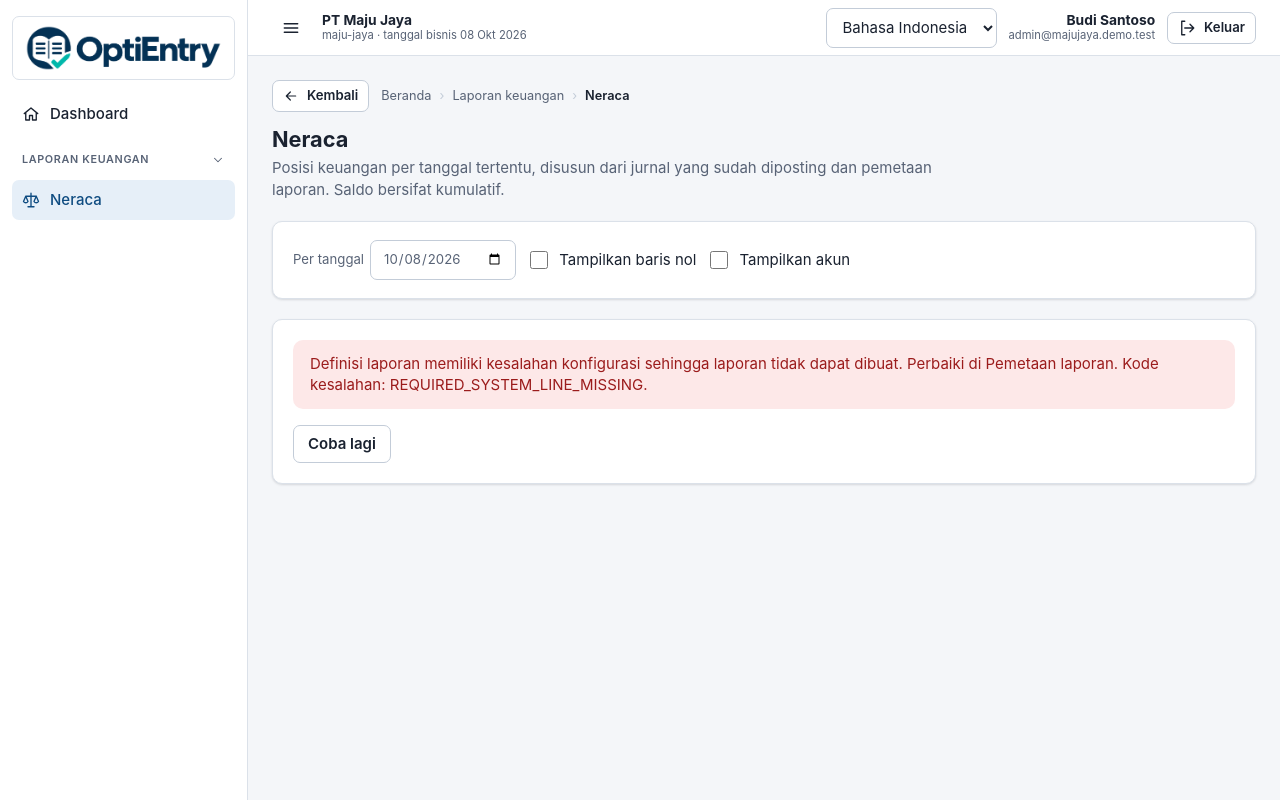
Scenario: balance sheet › shows an invalid definition with the codes the API found, and a refusal in Indonesian, and loads again on retry
Expected: the text "REQUIRED_SYSTEM_LINE_MISSING" is shown, x1=310 y1=354 x2=1159 y2=394
Click the button "Coba lagi": (342, 444) x1=293 y1=425 x2=391 y2=463
(page scrolled)
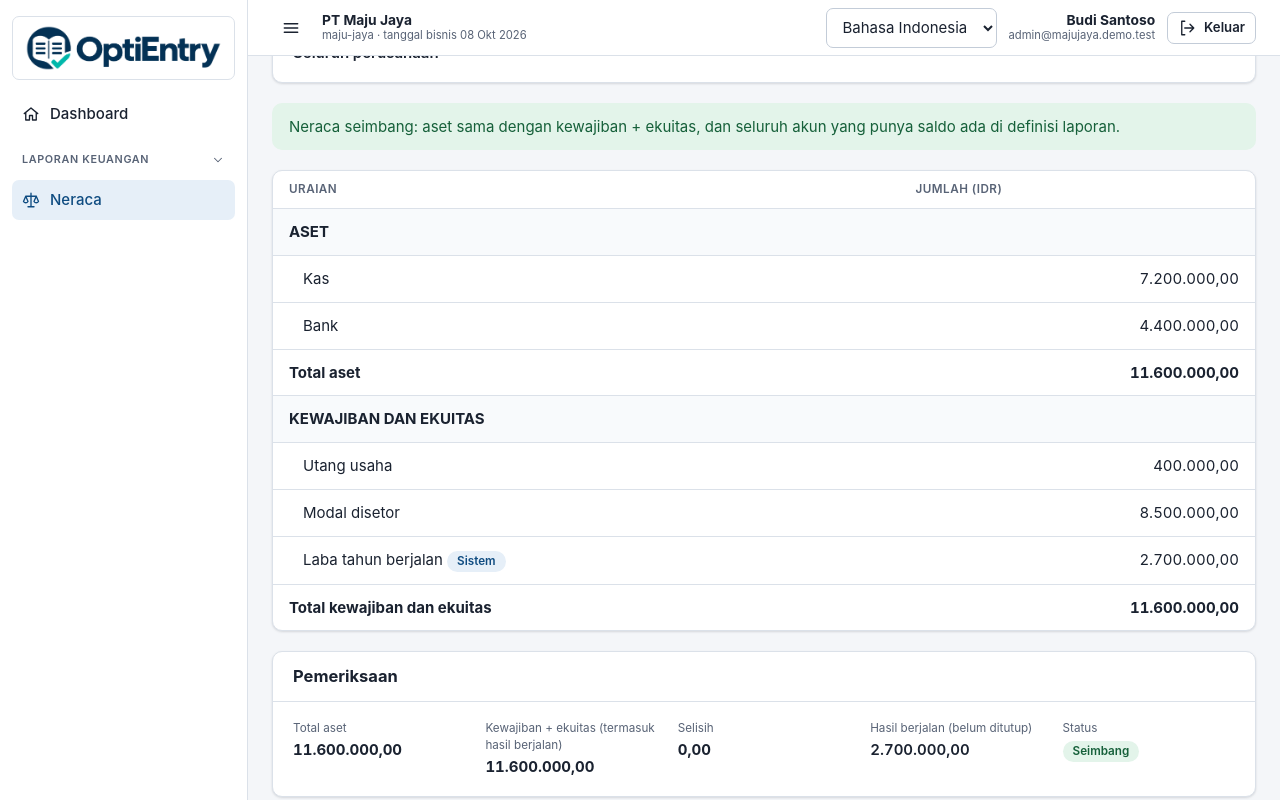
Expected: the table named "Baris neraca" is shown, x1=273 y1=172 x2=1255 y2=630
